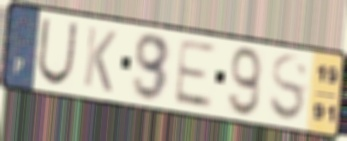9: (130, 31, 174, 104), (227, 44, 264, 119)
E: (171, 36, 218, 111)
K: (81, 24, 119, 96)
S: (268, 52, 311, 125)
U: (35, 16, 80, 87)
